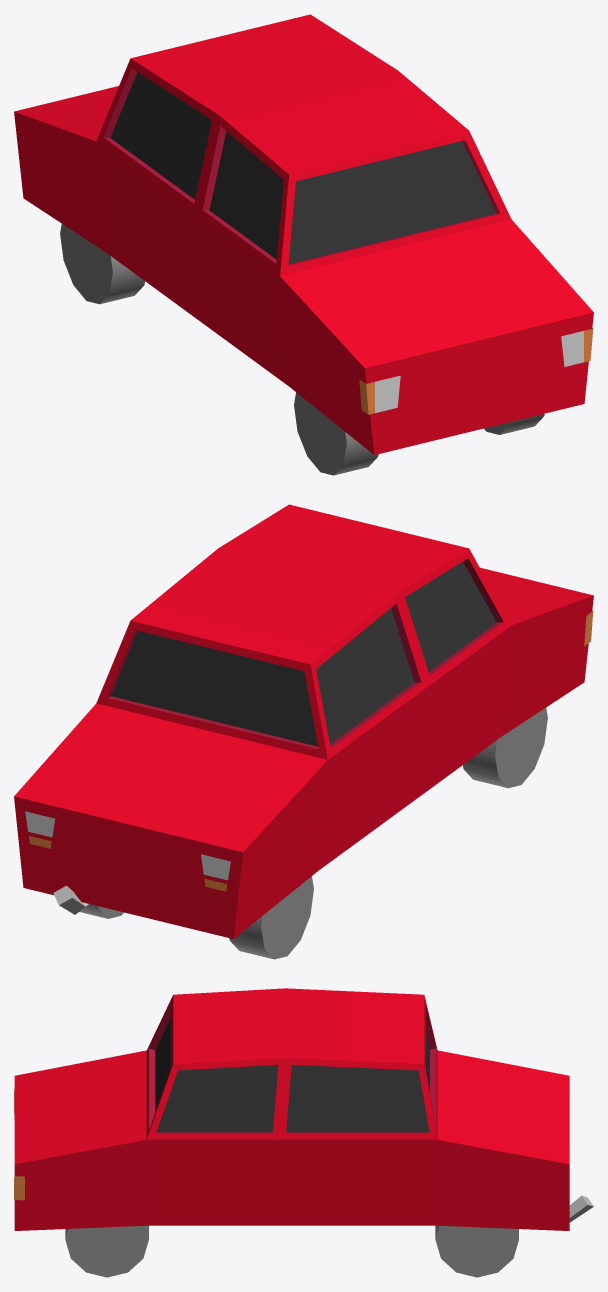
Rendered from car_04.fbx.
The picture shows the model from 3 angles, top to bottom: view 1: azimuth 30°, elevation 25°; view 2: azimuth 150°, elevation 25°; view 3: azimuth 270°, elevation 25°; orthographic projection. The views are drawn at different scales.
Visible parts, largest first — view 1: car_04; view 2: car_04; view 3: car_04.
Boxes of the visible parts, x1,y1,x2,y2 form: car_04: (14, 14, 593, 475); car_04: (14, 504, 593, 959); car_04: (14, 988, 593, 1277).
Bounding box in the file's own units: 1.6 × 1.8 × 4.39.
